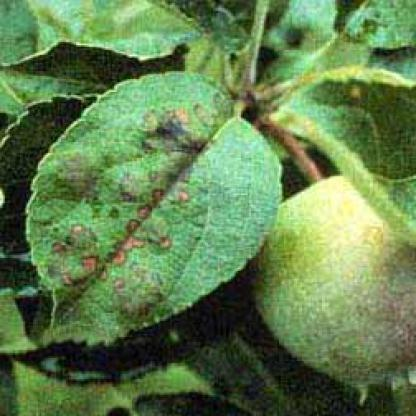Apple Scab Leaf: (32, 58, 296, 353)
